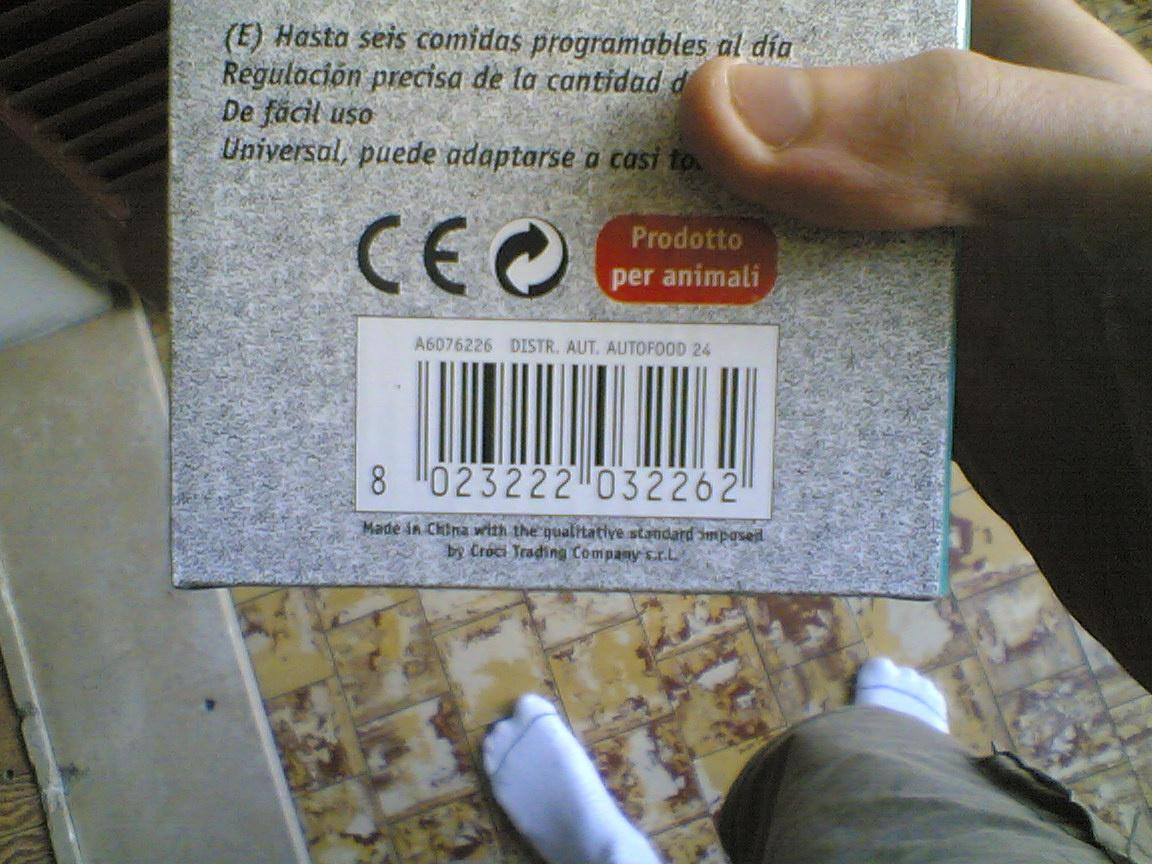Barcode: (356, 352, 761, 521)
